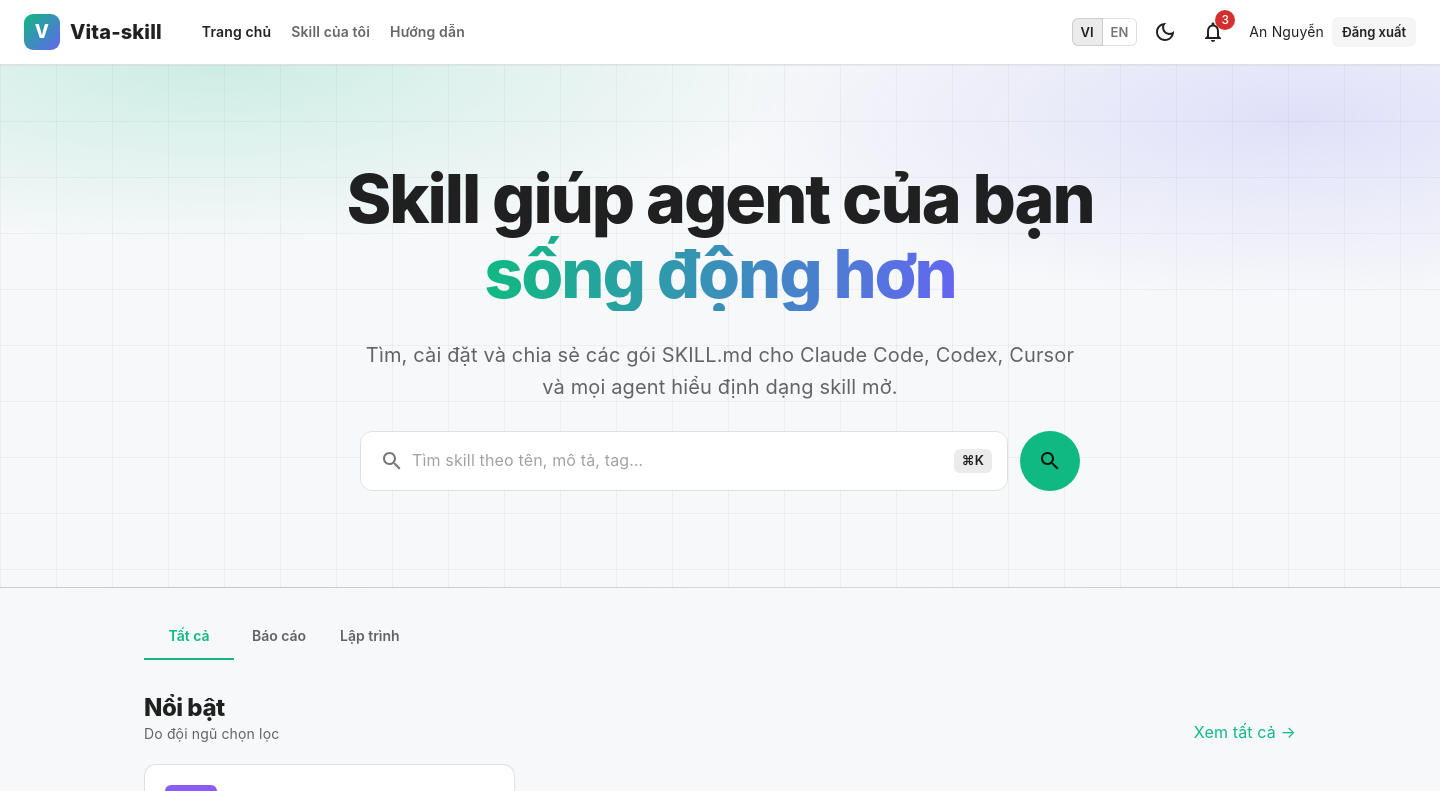
Test: HomePage › tìm kiếm chuyển sang /skills?q=
In the field named "Tìm kiếm": coordinates (679, 461) [412, 433, 946, 489], type "báo cáo"
Then press Enter
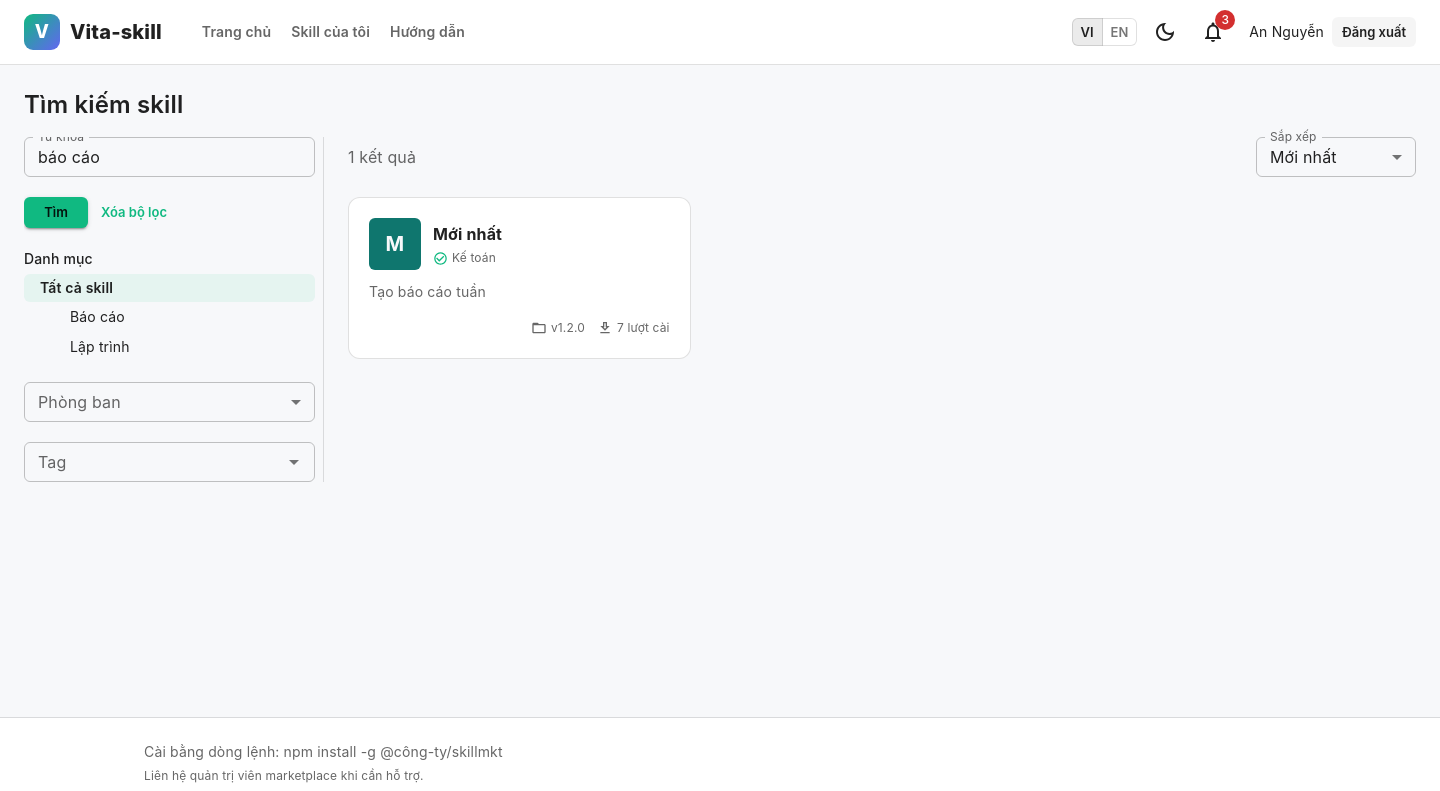
Now the heading "Tìm kiếm skill" is shown, box [24, 89, 183, 121]
Now the field labelled "Từ khoá" holds "báo cáo", box [24, 137, 315, 177]
